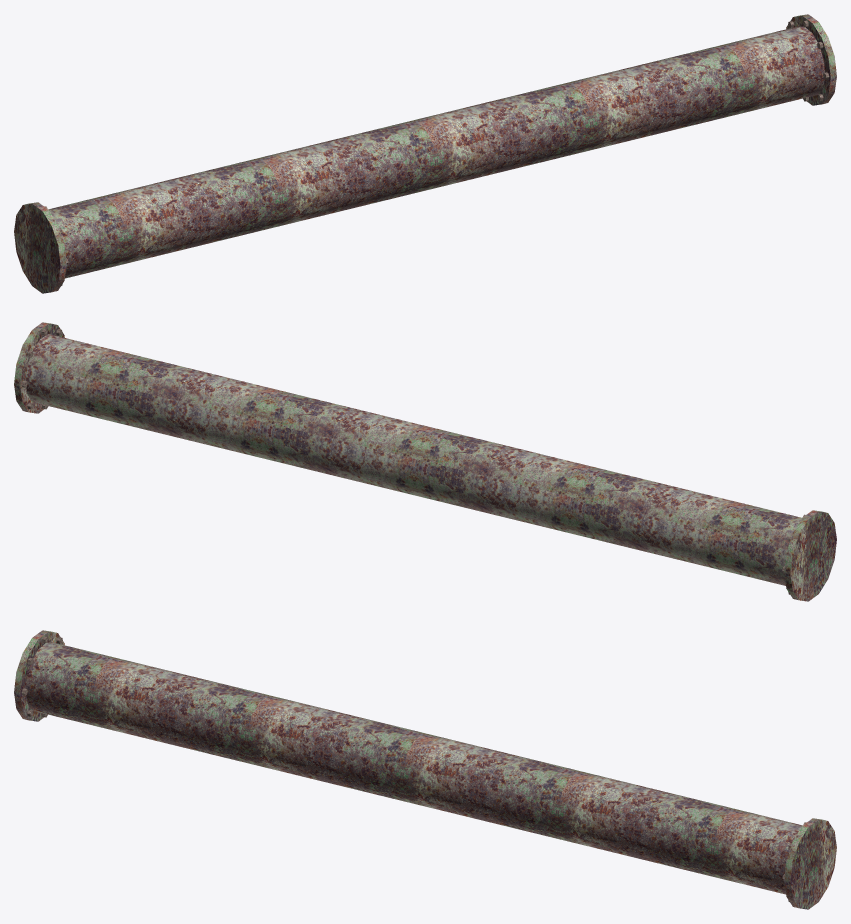
The model's file is pipe3.FBX.
3 views of the same model, one above another, from view 1: azimuth 30°, elevation 25°; view 2: azimuth 150°, elevation 25°; view 3: azimuth 330°, elevation 25° (orthographic).
Parts seen in each view (by area): view 1: pipe3; view 2: pipe3; view 3: pipe3.
Boxes of the visible parts, bbox=[...] form: pipe3: bbox=[14, 14, 836, 293]; pipe3: bbox=[14, 322, 836, 601]; pipe3: bbox=[14, 630, 836, 909].
Bounding box in the file's own units: 2.5 × 0.2535 × 0.26.
1 material, 1 textured.
